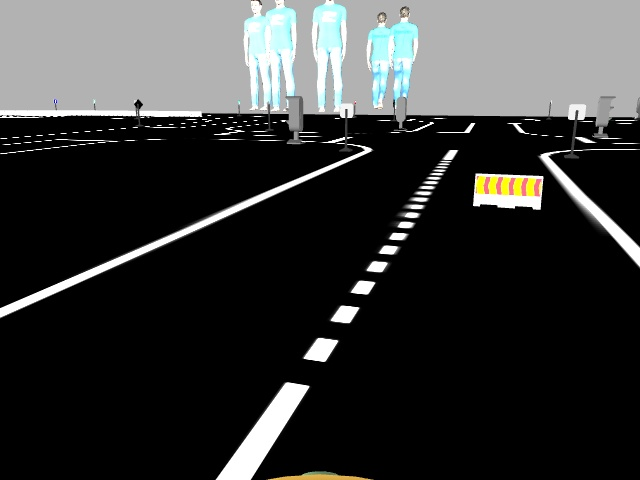ClosedRoadStand: (476, 174, 541, 207)
